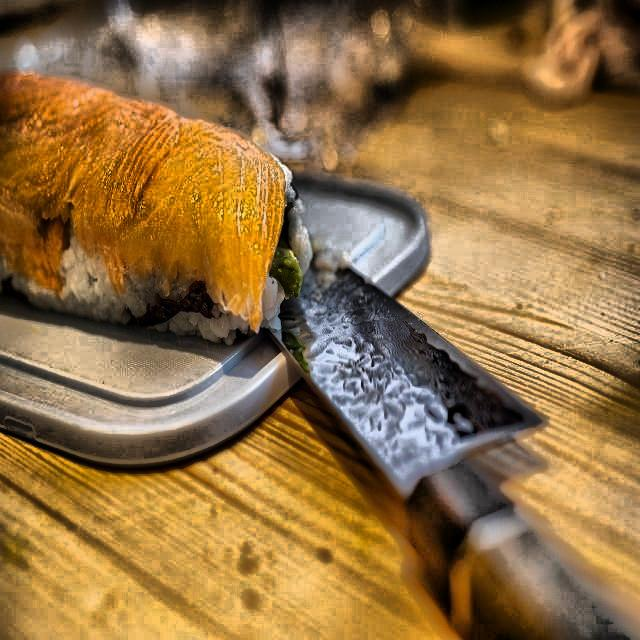knife: (272, 230, 640, 640)
